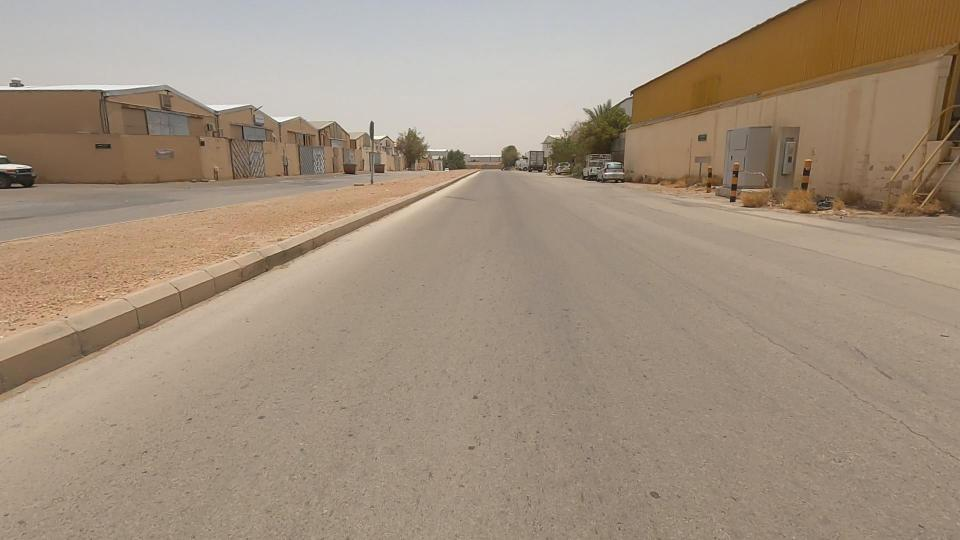CLUTTER_SIDEWALK: (0, 191, 373, 317), (258, 173, 421, 240)
